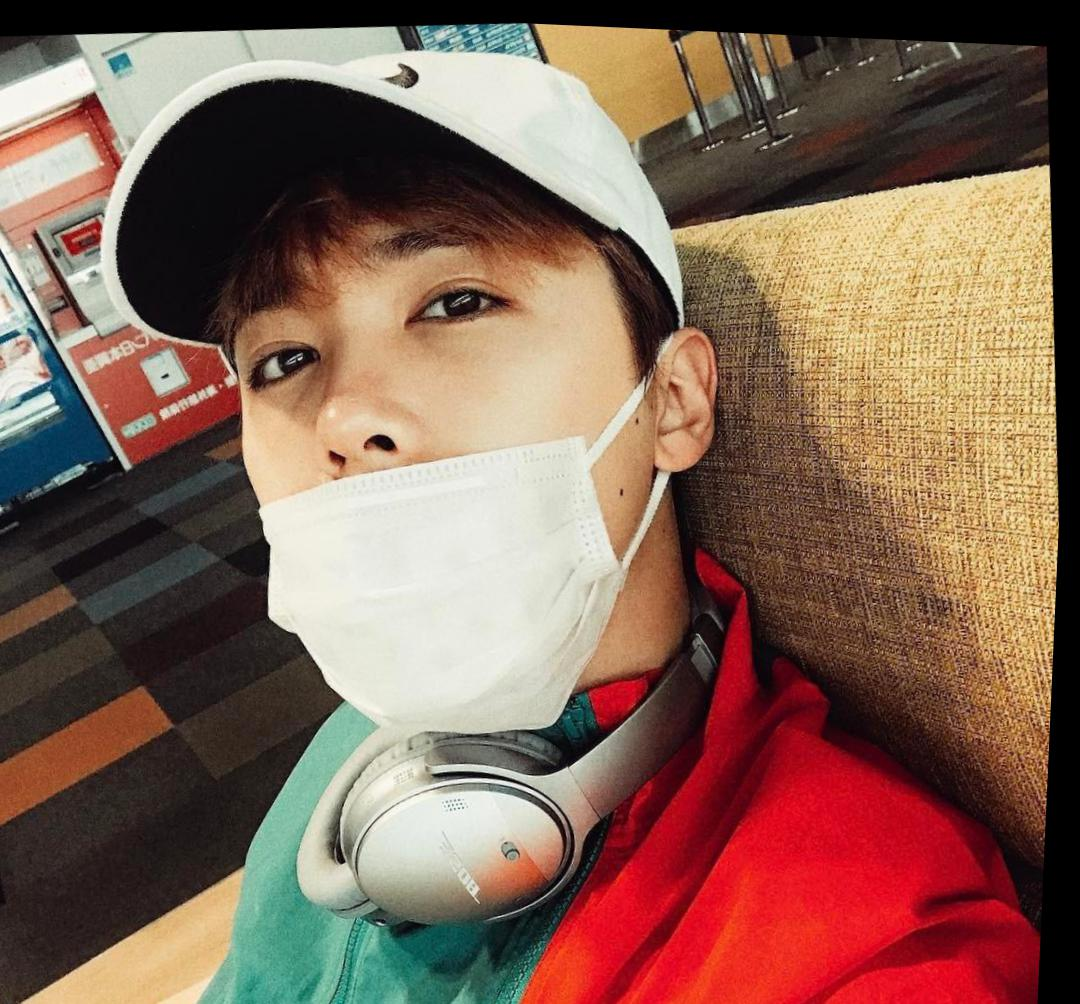WRONG: (185, 176, 666, 727)
